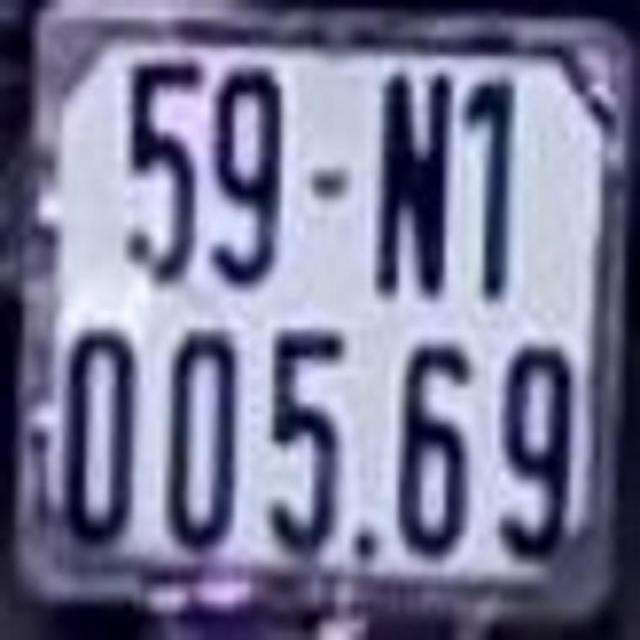0: (165, 323, 238, 543), (67, 330, 132, 527)
1: (462, 72, 511, 307)
5: (268, 319, 344, 556), (130, 56, 203, 290)
6: (400, 338, 471, 554)
9: (497, 343, 570, 563), (213, 63, 283, 286)
N: (380, 67, 448, 290)
